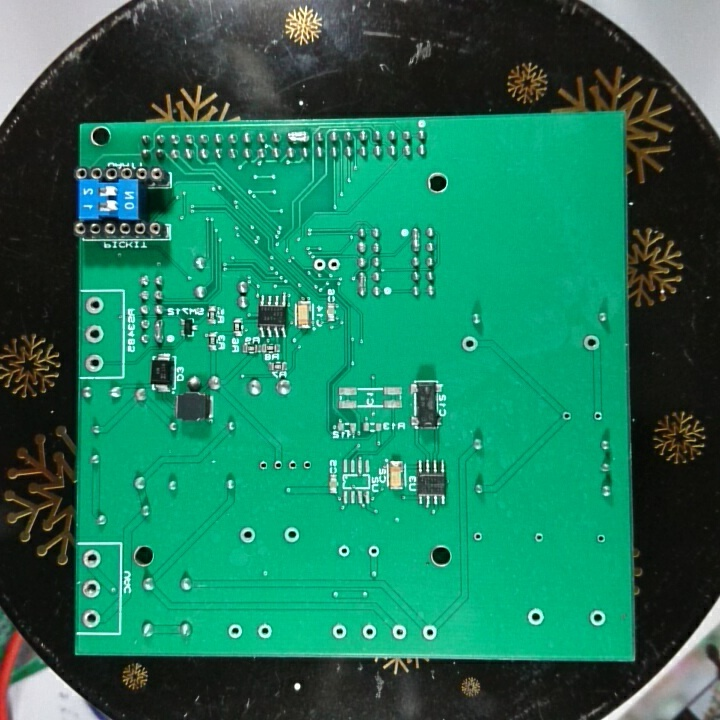F: (525, 605, 548, 631), (83, 323, 107, 347), (81, 547, 104, 572), (83, 351, 108, 374), (84, 295, 108, 318), (459, 333, 482, 356), (236, 523, 259, 546), (81, 578, 104, 601), (586, 607, 609, 629), (282, 523, 303, 547), (328, 620, 350, 642), (80, 607, 102, 629), (254, 620, 277, 641), (224, 620, 246, 641), (358, 621, 379, 642), (581, 332, 600, 354), (419, 623, 439, 643), (389, 622, 409, 642), (365, 543, 382, 561), (558, 407, 574, 426), (327, 255, 342, 275), (335, 543, 354, 558), (311, 256, 327, 273), (532, 529, 547, 546), (471, 529, 486, 545), (299, 458, 314, 474), (284, 458, 301, 472), (257, 458, 271, 474), (272, 457, 285, 474), (591, 408, 605, 423), (594, 531, 608, 546)
P: (356, 269, 370, 301), (151, 318, 167, 346), (284, 129, 312, 144), (409, 225, 422, 255)
